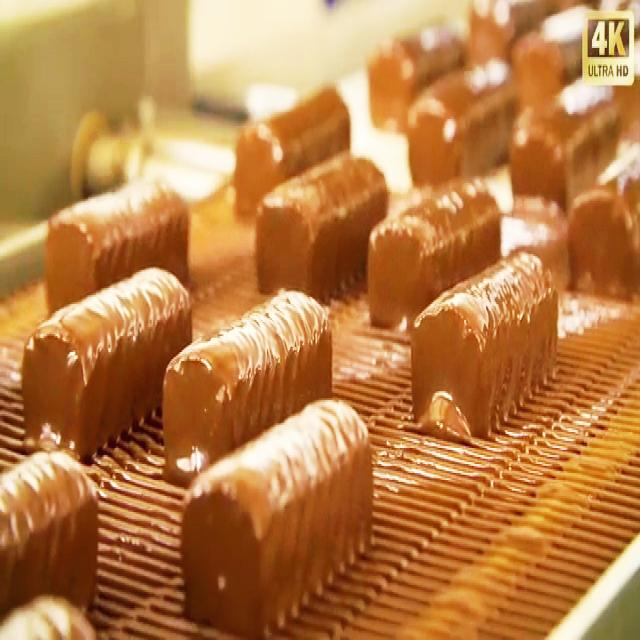Choco: (179, 393, 374, 631), (161, 284, 334, 480), (20, 261, 192, 457), (408, 246, 560, 444), (366, 172, 502, 329), (43, 173, 190, 311), (253, 147, 388, 297), (3, 440, 104, 614), (235, 73, 352, 217), (505, 86, 619, 204), (402, 62, 514, 178), (362, 15, 464, 130), (563, 164, 640, 304)
